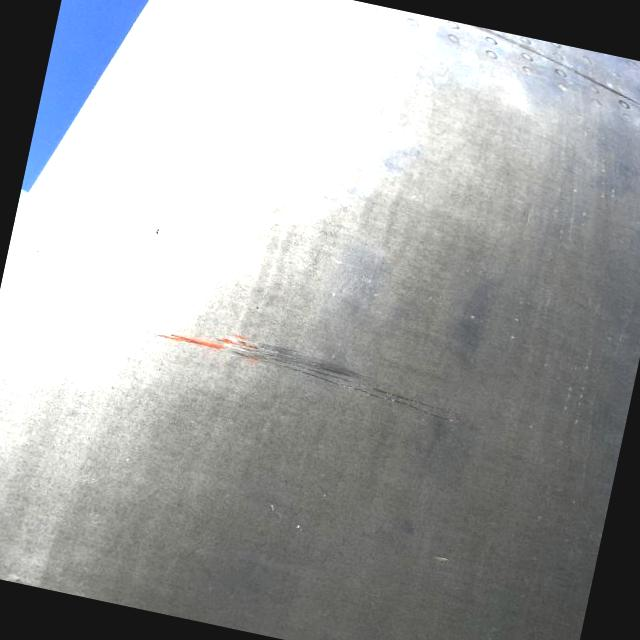crack: (178, 332, 462, 426)
